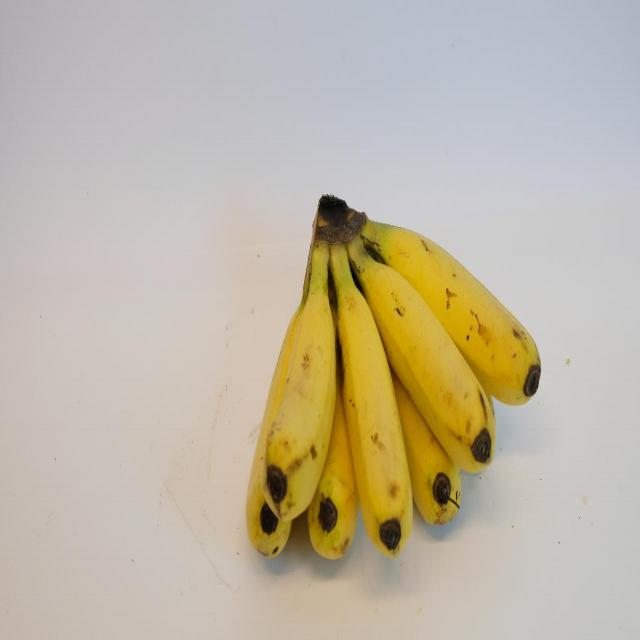banana: (344, 212, 500, 476), (352, 209, 544, 415), (326, 228, 416, 562), (256, 200, 340, 524), (240, 220, 317, 564)
